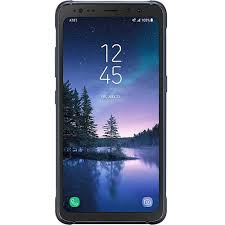samsung: (54, 1, 167, 223)
